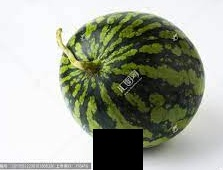watermelon: (53, 12, 204, 151)
